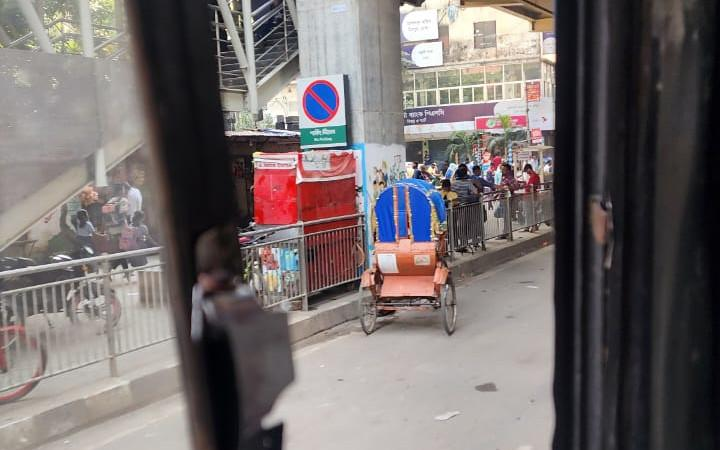No Parking: (297, 73, 349, 150)
